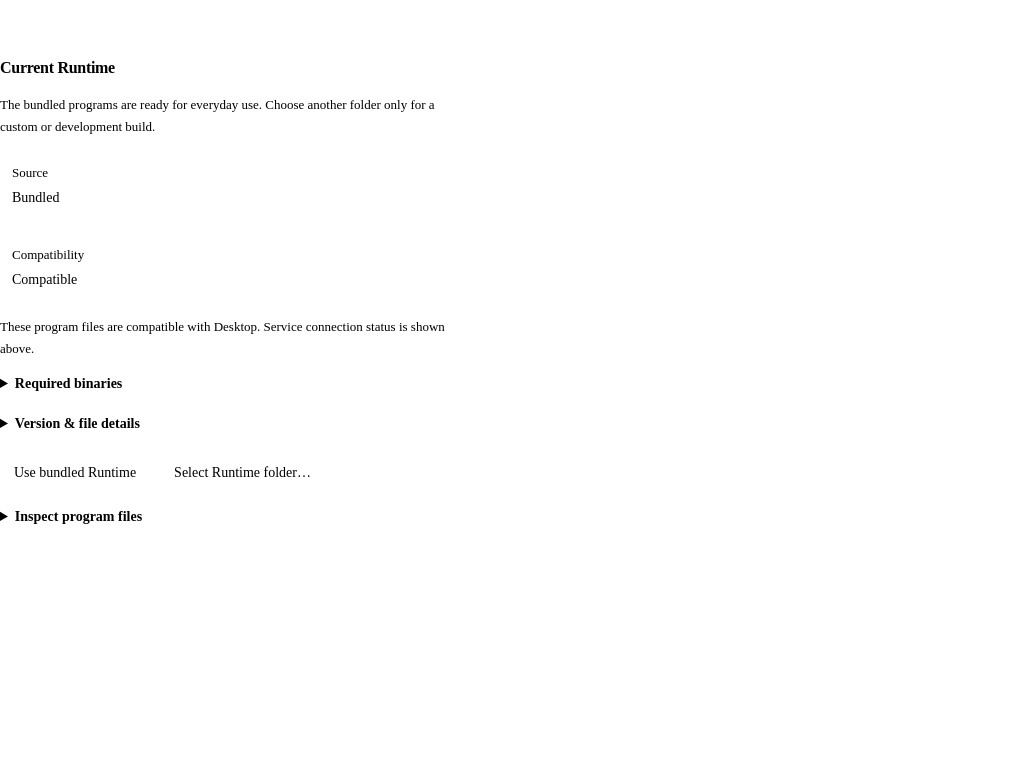
Runtime candidate and ownership semantics › requires interruption confirmation when the Job count is unknown
The image size is (1024, 768).
Click the button "Select Runtime folder…".
click(243, 472)  # box [160,452,325,492]
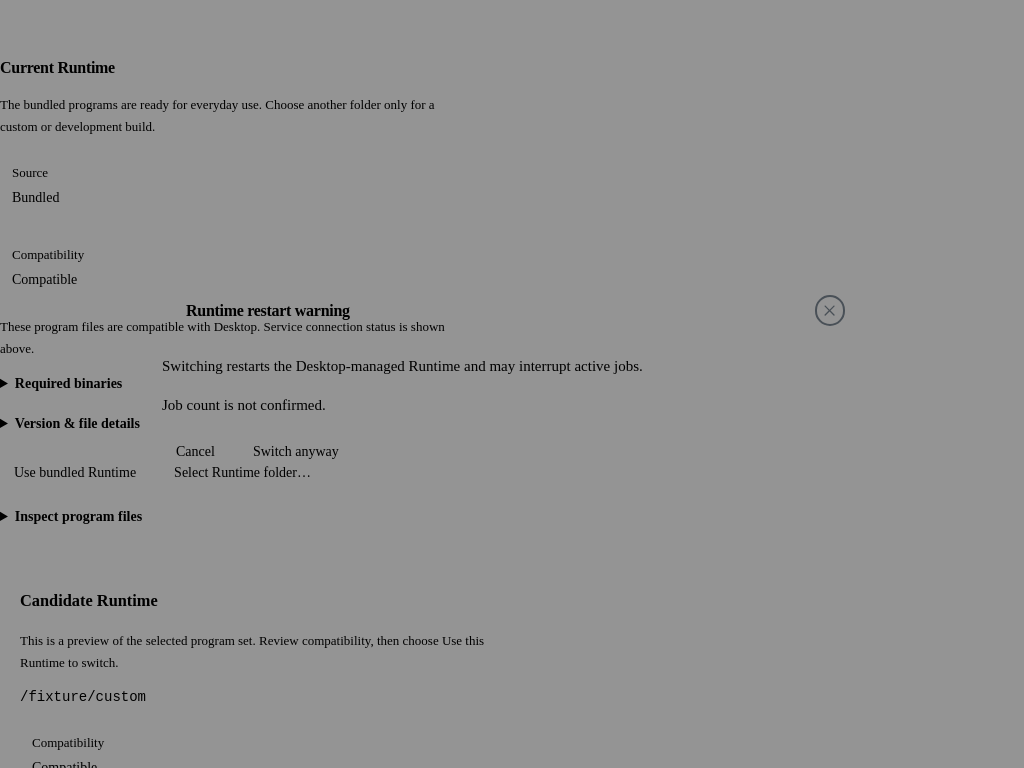
expect the text "Job count is not confirmed." is shown: met, box [162,396,326,412]
